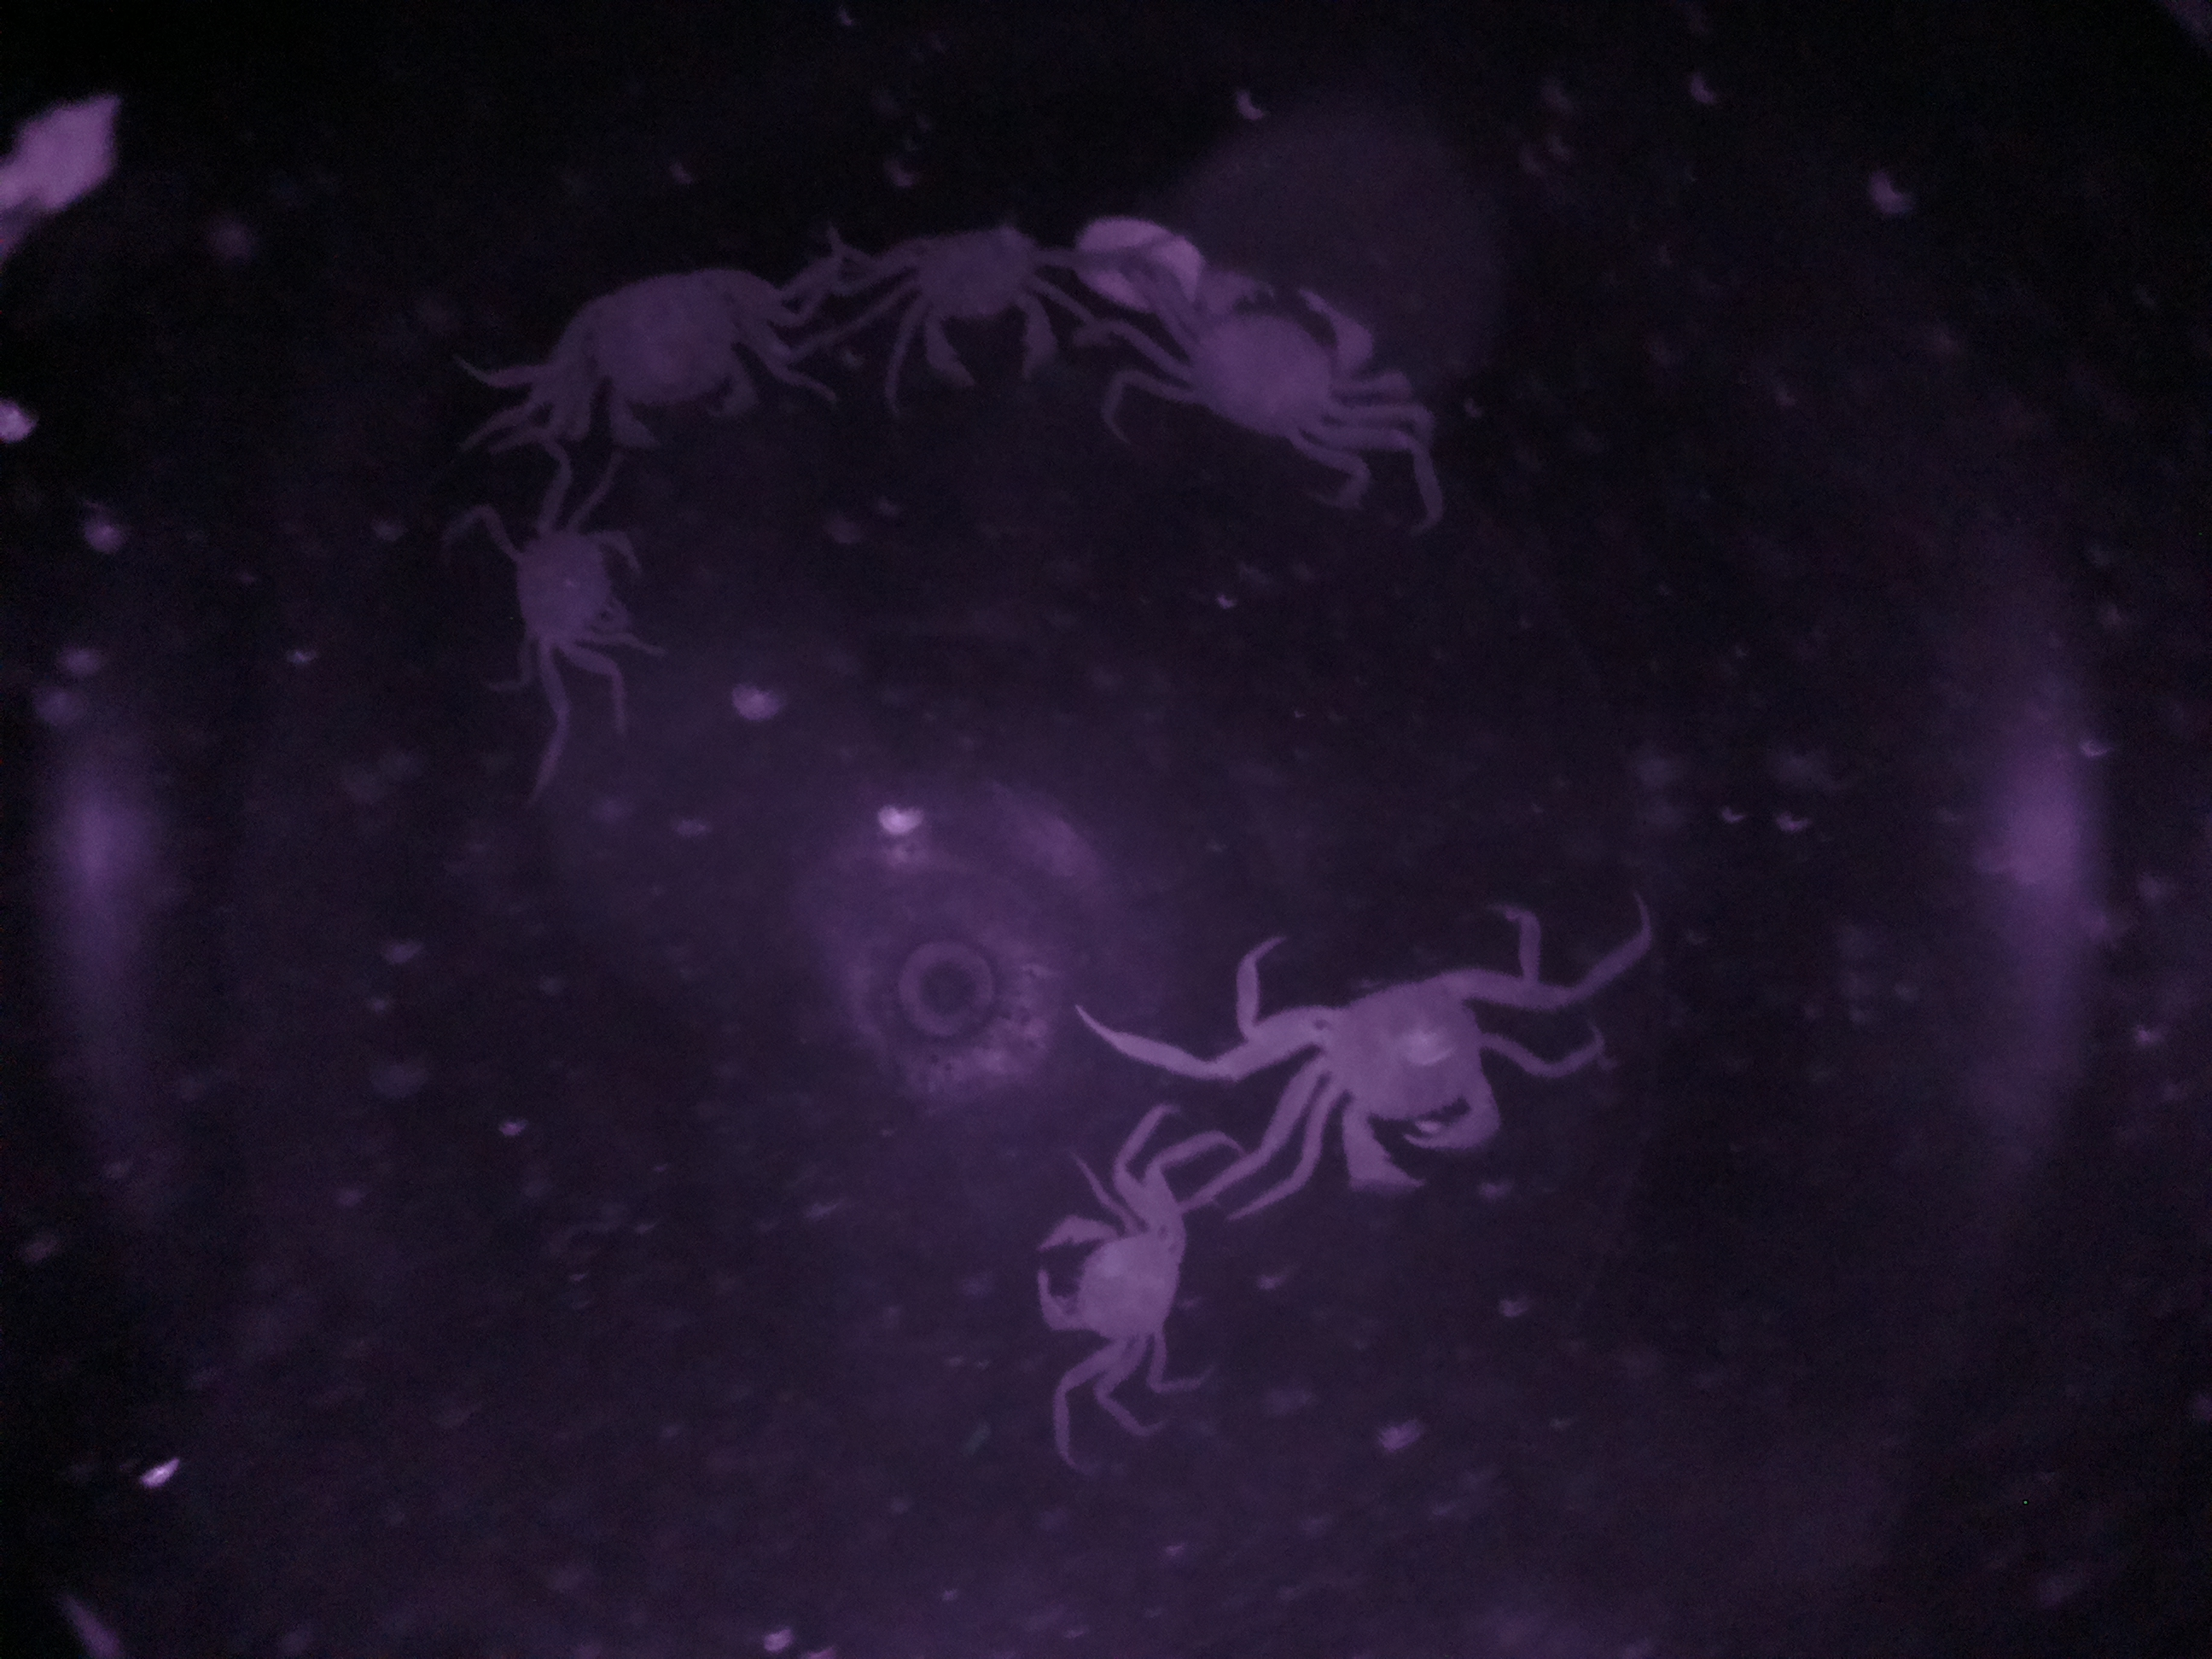Crab: (1226, 904, 1562, 1201), (1146, 254, 1451, 518), (524, 218, 798, 474), (469, 486, 707, 718), (1021, 1155, 1211, 1413), (866, 206, 1118, 387)
